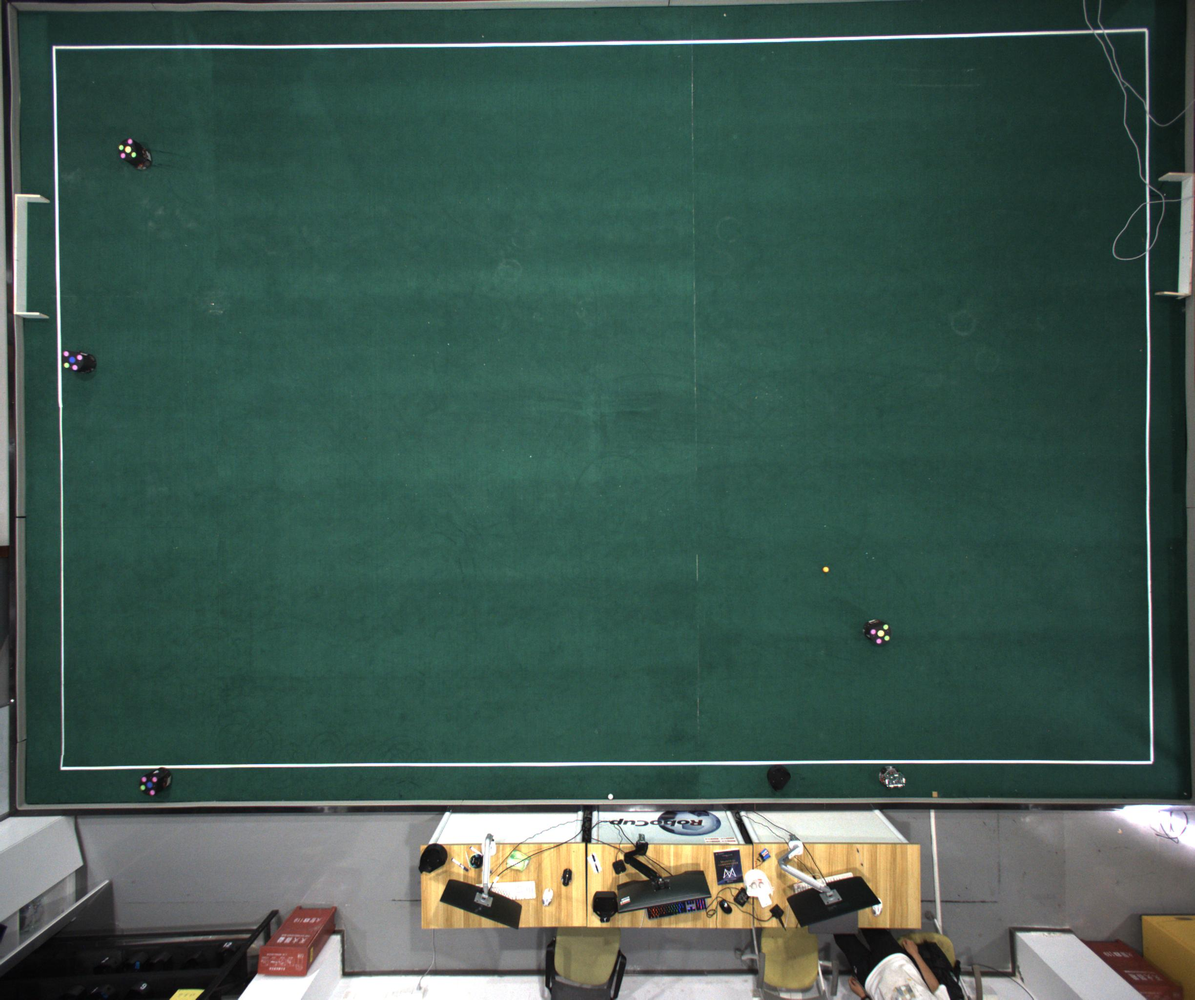ball: (822, 566, 830, 573)
blue_bot: (62, 350, 84, 371), (139, 776, 161, 796)
yellow_bot: (870, 624, 892, 645), (118, 138, 137, 161)
